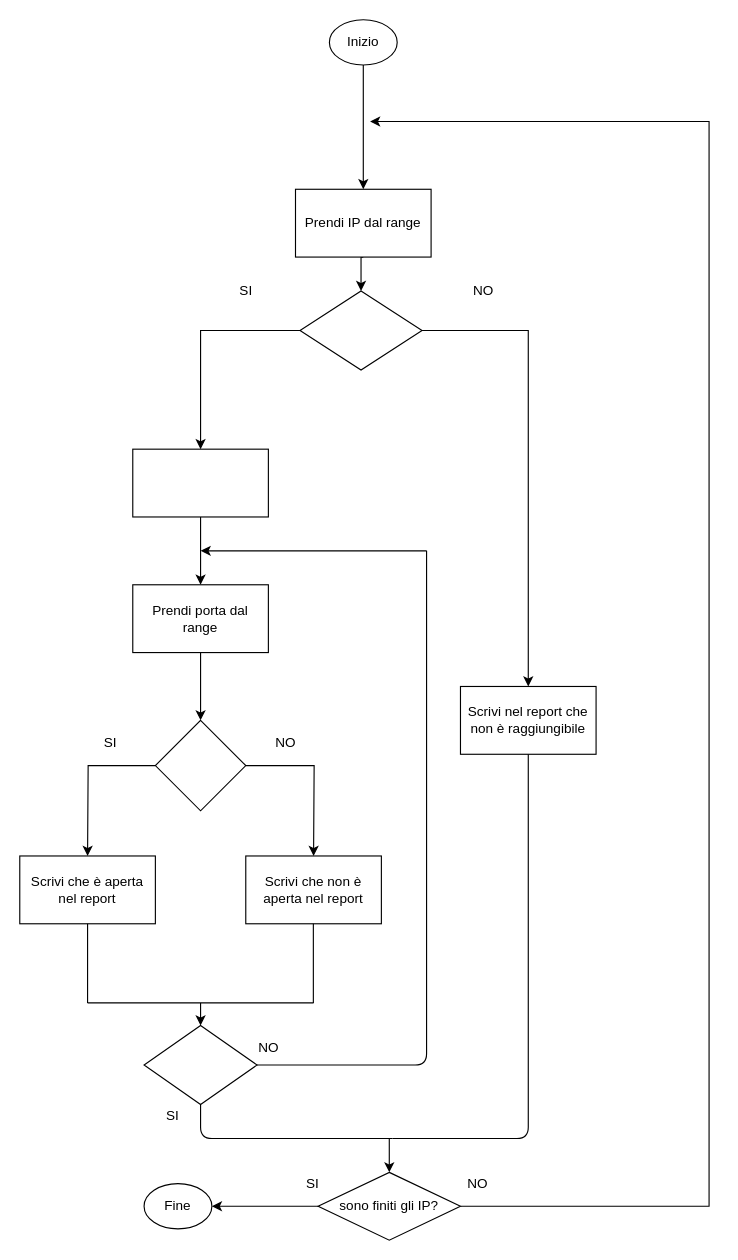
This 738x1260 diagram has some shape labels left out. The box of each missing label's shape, as (x1, y1, x2, y2) in pixels:
Scrivi nel report che è raggiungibile: (132, 448, 268, 517)
sono finite le porte?: (143, 1024, 257, 1105)
è aperta?: (154, 719, 246, 811)
è raggiungibile?: (299, 290, 422, 370)
